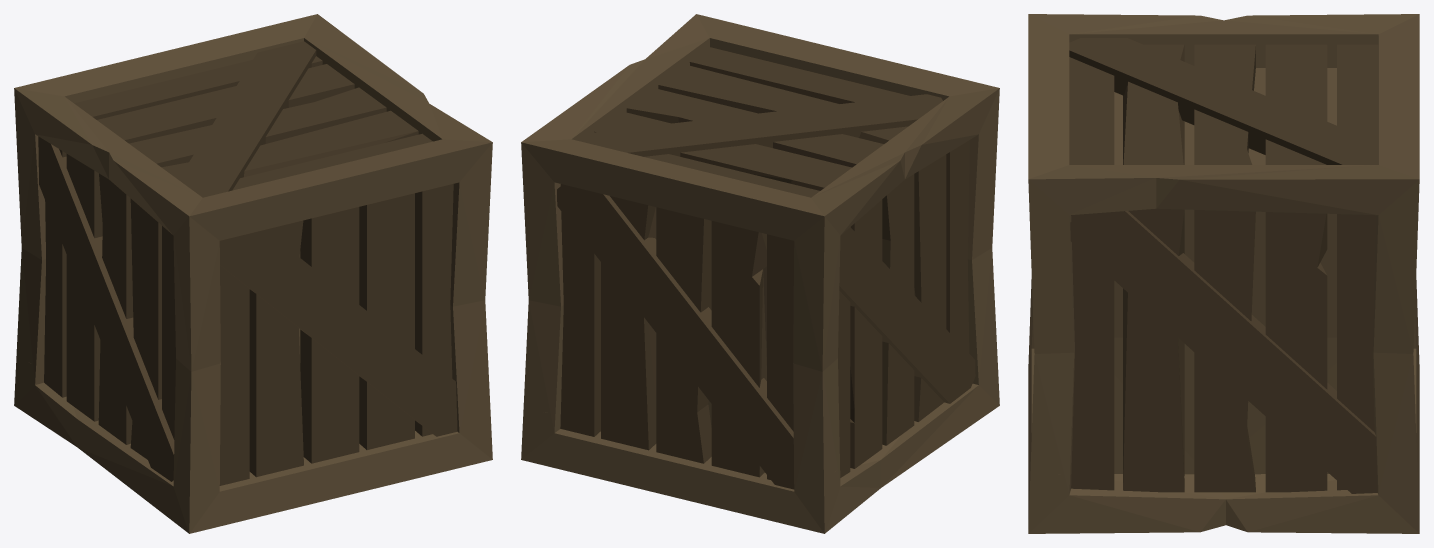
The model's file is crate_a_lod.glb.
3 views of the same model, side by side, from view 1: azimuth 30°, elevation 25°; view 2: azimuth 150°, elevation 25°; view 3: azimuth 270°, elevation 25° (orthographic). The views are drawn at different scales.
Parts seen in each view (by area): view 1: Crate; view 2: Crate; view 3: Crate.
Boxes of the visible parts, x1=… form: Crate: x1=14, y1=14, x2=492, y2=533; Crate: x1=521, y1=14, x2=999, y2=533; Crate: x1=1028, y1=14, x2=1419, y2=533.
Size of the model in its own units: 0.8239 by 0.824 by 0.824.
